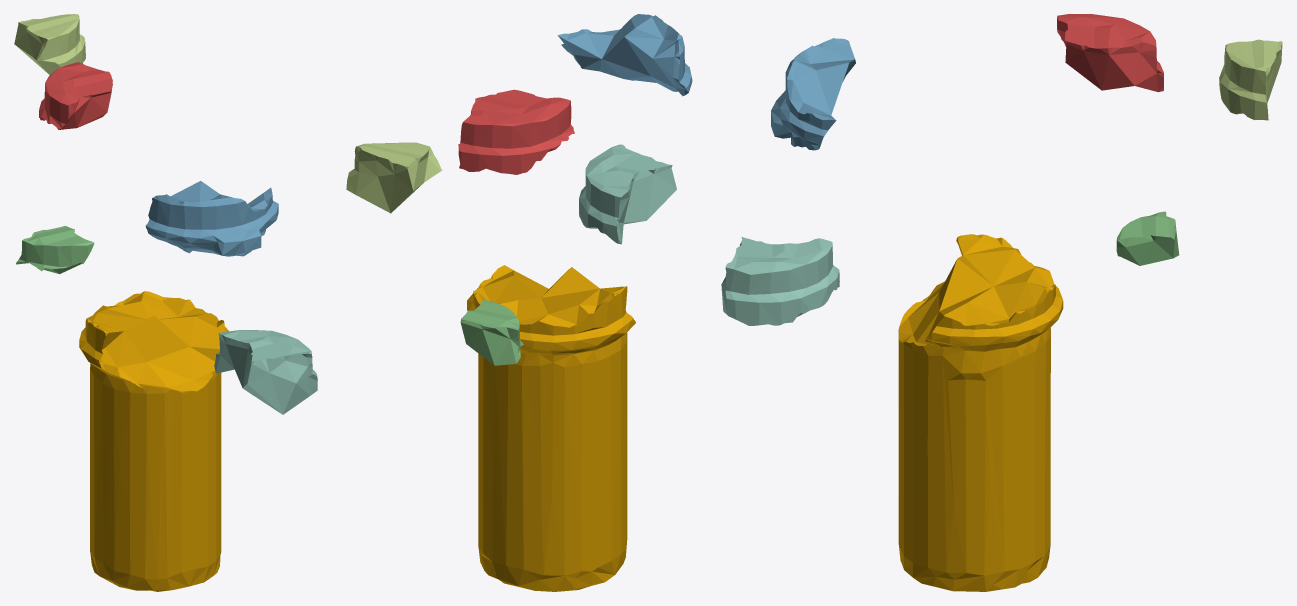
Rendered from fractured_77_6pcs_transformed.glb.
The picture shows the model from 3 angles, left to right: view 1: azimuth 30°, elevation 25°; view 2: azimuth 150°, elevation 25°; view 3: azimuth 270°, elevation 25°; orthographic projection. The views are drawn at different scales.
Visible parts, largest first — view 1: piece_0.obj, piece_2.obj, piece_4.obj, piece_1.obj, piece_5.obj, piece_3.obj; view 2: piece_0.obj, piece_1.obj, piece_2.obj, piece_4.obj, piece_5.obj, piece_3.obj; view 3: piece_0.obj, piece_4.obj, piece_1.obj, piece_2.obj, piece_5.obj, piece_3.obj.
Part boxes in pixels (x1=…): piece_0.obj: x1=79, y1=291, x2=228, y2=591; piece_2.obj: x1=145, y1=181, x2=278, y2=256; piece_4.obj: x1=214, y1=330, x2=317, y2=414; piece_1.obj: x1=39, y1=62, x2=112, y2=129; piece_5.obj: x1=14, y1=14, x2=85, y2=74; piece_3.obj: x1=16, y1=225, x2=94, y2=273; piece_0.obj: x1=467, y1=265, x2=635, y2=591; piece_1.obj: x1=458, y1=89, x2=574, y2=174; piece_2.obj: x1=557, y1=14, x2=692, y2=96; piece_4.obj: x1=579, y1=144, x2=676, y2=244; piece_5.obj: x1=346, y1=142, x2=442, y2=213; piece_3.obj: x1=460, y1=299, x2=523, y2=365; piece_0.obj: x1=898, y1=234, x2=1063, y2=591; piece_4.obj: x1=721, y1=237, x2=839, y2=325; piece_1.obj: x1=1057, y1=14, x2=1163, y2=92; piece_2.obj: x1=771, y1=38, x2=855, y2=150; piece_5.obj: x1=1219, y1=39, x2=1282, y2=120; piece_3.obj: x1=1116, y1=211, x2=1179, y2=265.
Size of the model in its own units: 0.4915 by 1.6 by 1.56.
